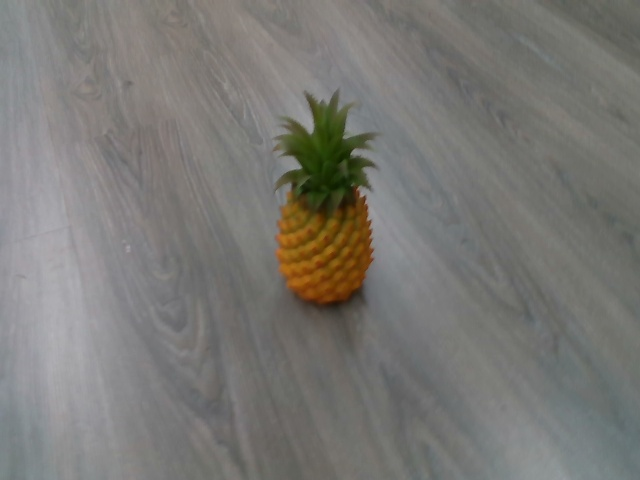pineapple: (268, 87, 381, 307)
